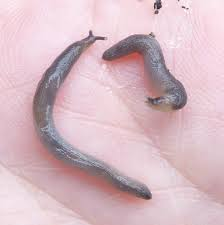slug: (32, 29, 152, 199), (108, 33, 188, 112)
